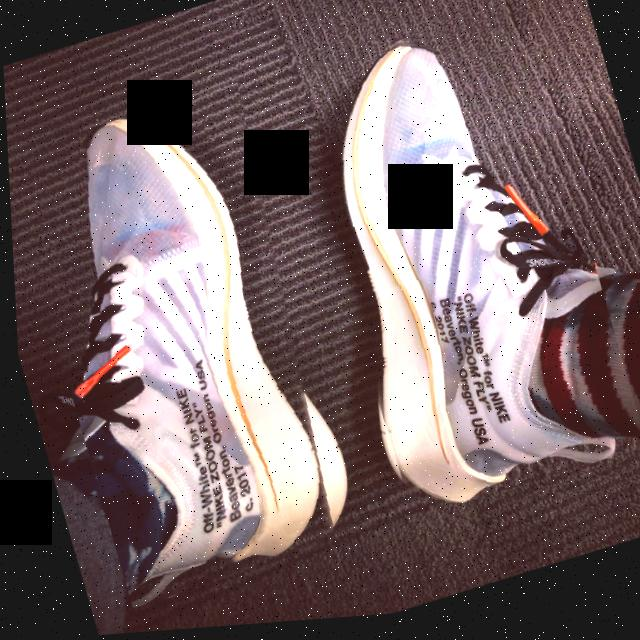shoe: (275, 0, 640, 532), (4, 79, 364, 616)
